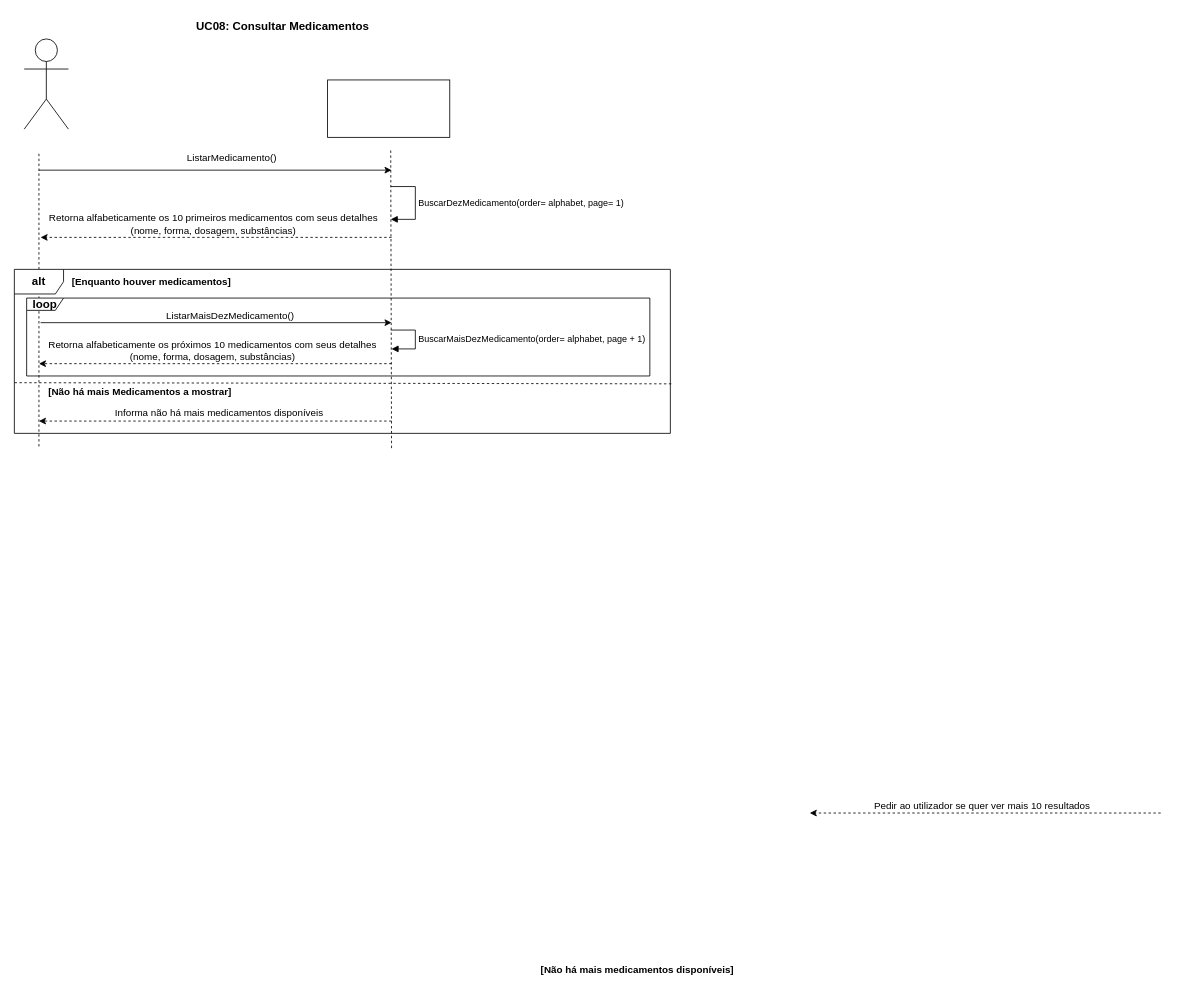
Some shapes in this 1182 by 995 pixel diagram are drawn without their labels. Here are the shapes that lost their labels. From the top down, the centre of each, then its label:
(x=45, y=83): :Indústria
(x=388, y=108): :Sistema
